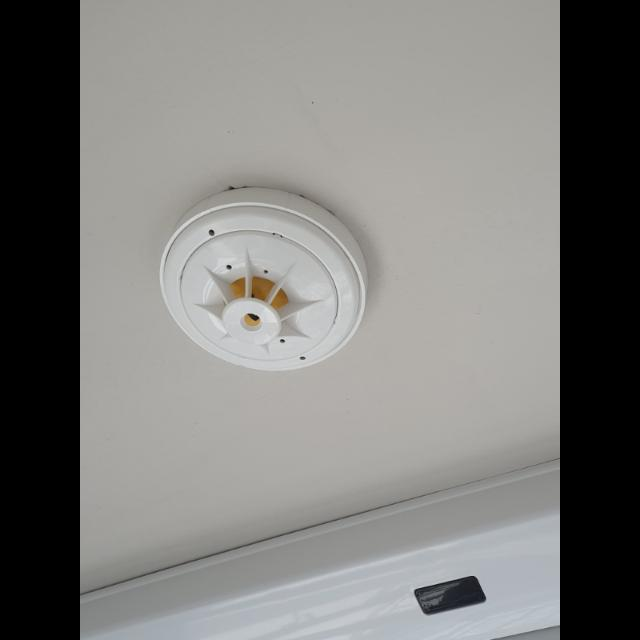Smoke-Detector: (160, 186, 370, 374)
